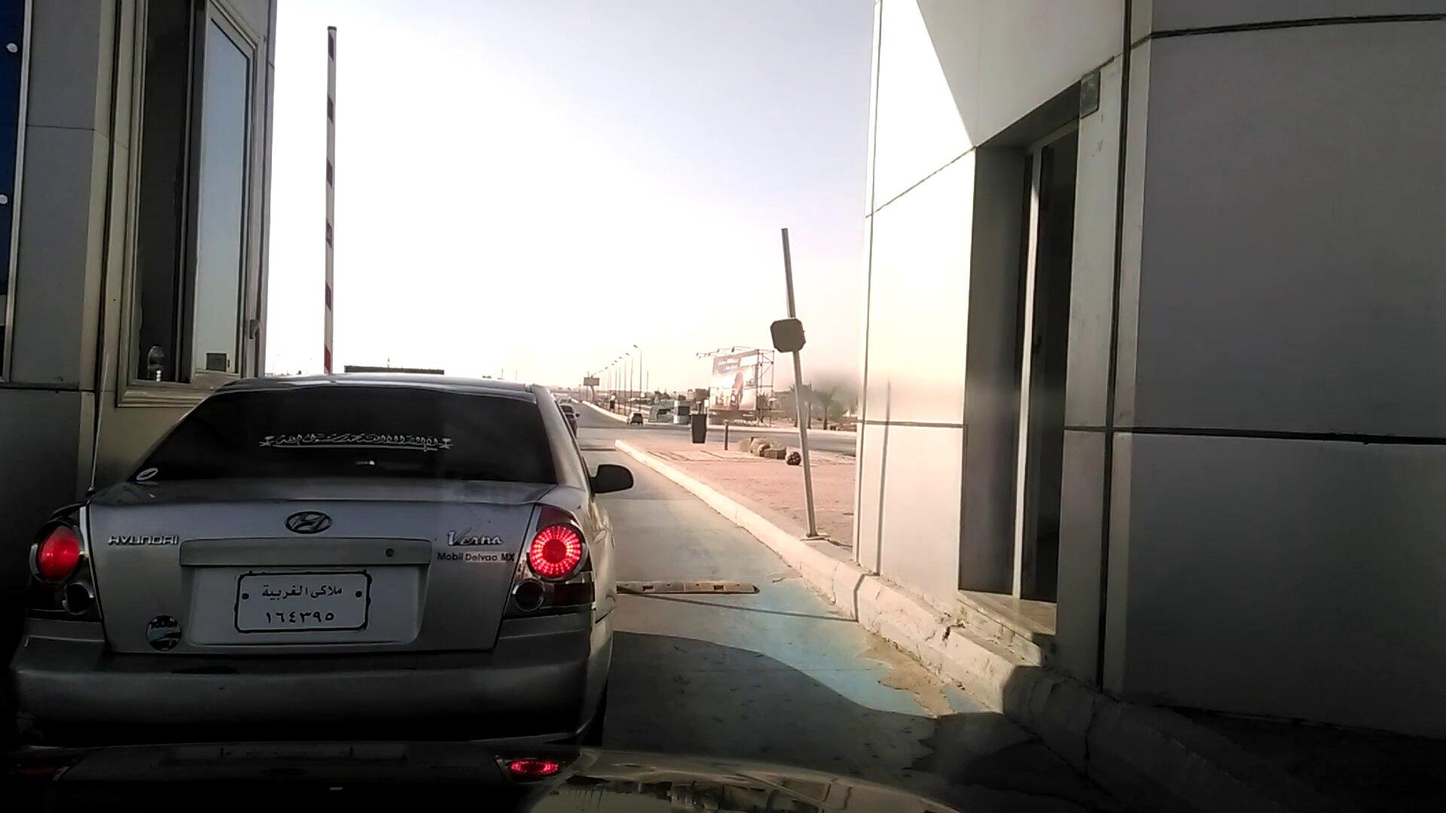Bump: (619, 576, 763, 591)
